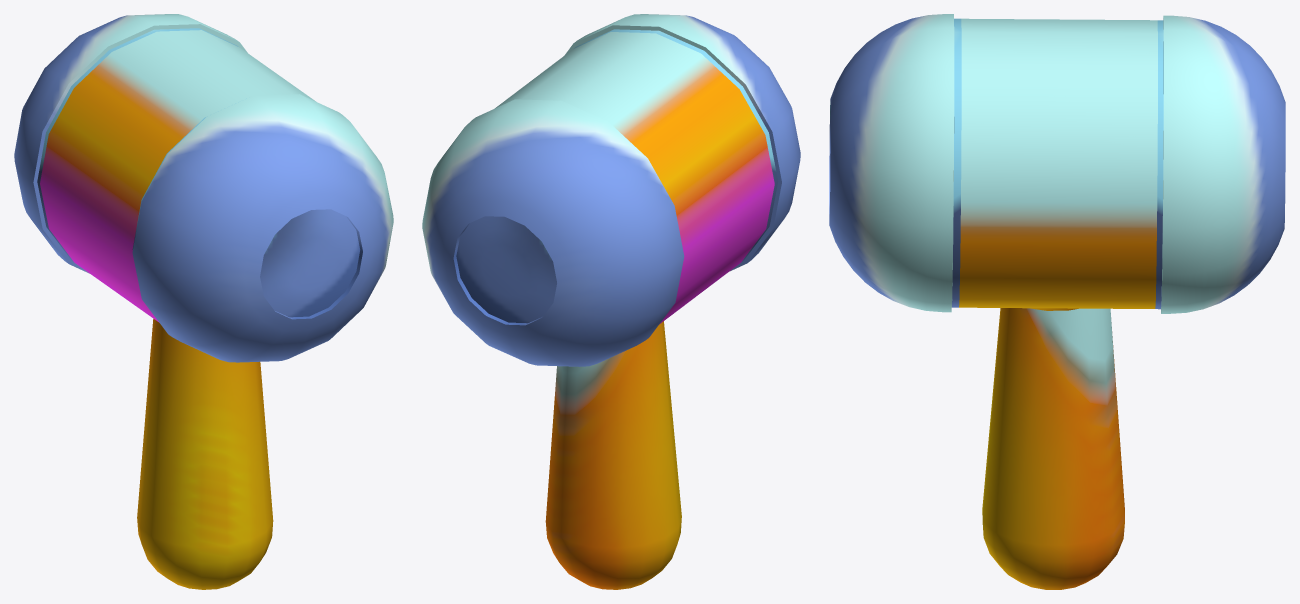
Rendered from hammer1new.fbx.
3 views of the same model, side by side, from view 1: azimuth 30°, elevation 25°; view 2: azimuth 150°, elevation 25°; view 3: azimuth 270°, elevation 25° (orthographic). The views are drawn at different scales.
Visible parts, largest first — view 1: Cylinder.115; view 2: Cylinder.115; view 3: Cylinder.115.
Part boxes in pixels (bbox=[...]): Cylinder.115: bbox=[14, 14, 393, 589]; Cylinder.115: bbox=[422, 14, 800, 589]; Cylinder.115: bbox=[829, 14, 1285, 589].
Size of the model in its own units: 409 by 837 by 624.
